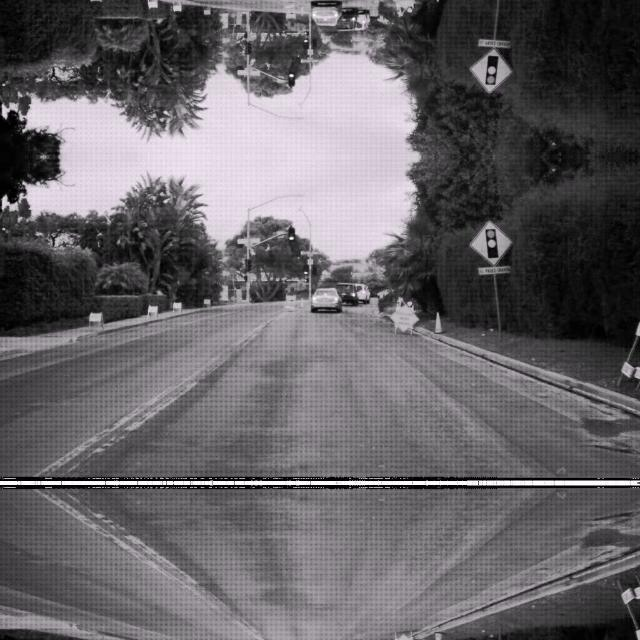signalAhead: (468, 218, 514, 264), (468, 48, 514, 94)
